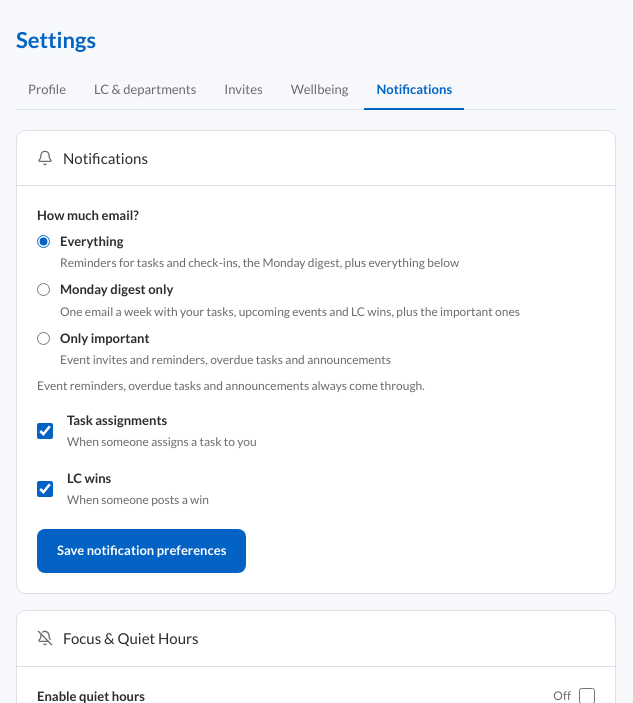
Test: Settings page: Issue #15 › shows members & invites, departments and LC settings to the president, one tab each
Expected: the heading "Settings" is shown, left=16, top=26, right=96, bottom=53
Click the tab "Invites" at (243, 91), box left=212, top=72, right=275, bottom=110
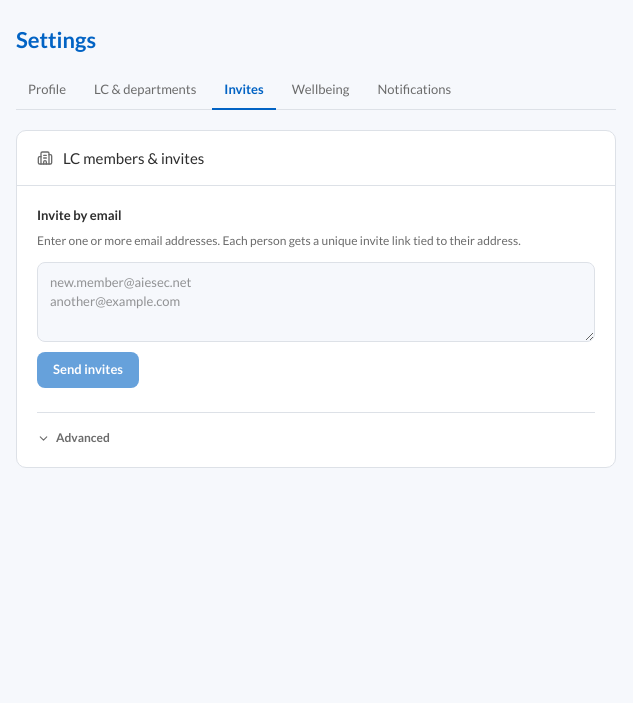
Expected: the heading "LC members & invites" is shown, left=63, top=146, right=204, bottom=169
Click the tab "LC & departments" at (145, 91), box left=82, top=72, right=208, bottom=110
(page scrolled)
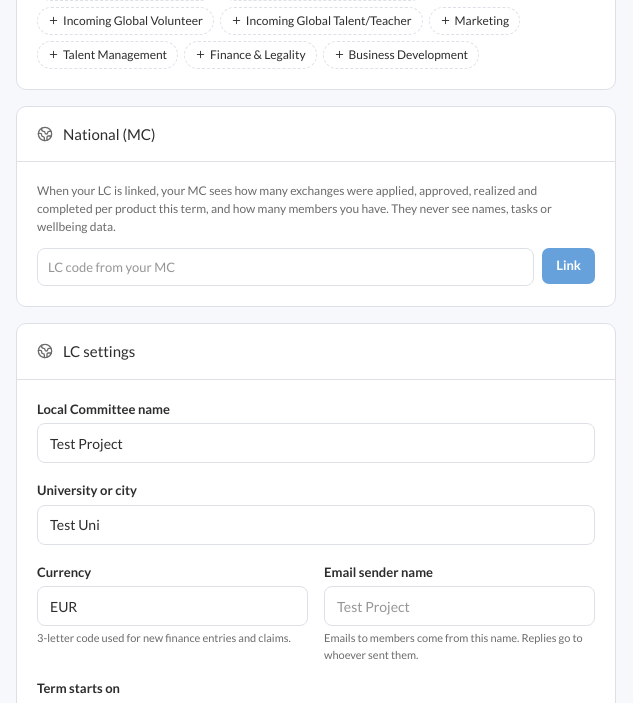
Expected: the heading "LC settings" is shown, left=63, top=340, right=135, bottom=362
Expected: the heading "LC members & invites" is gone
